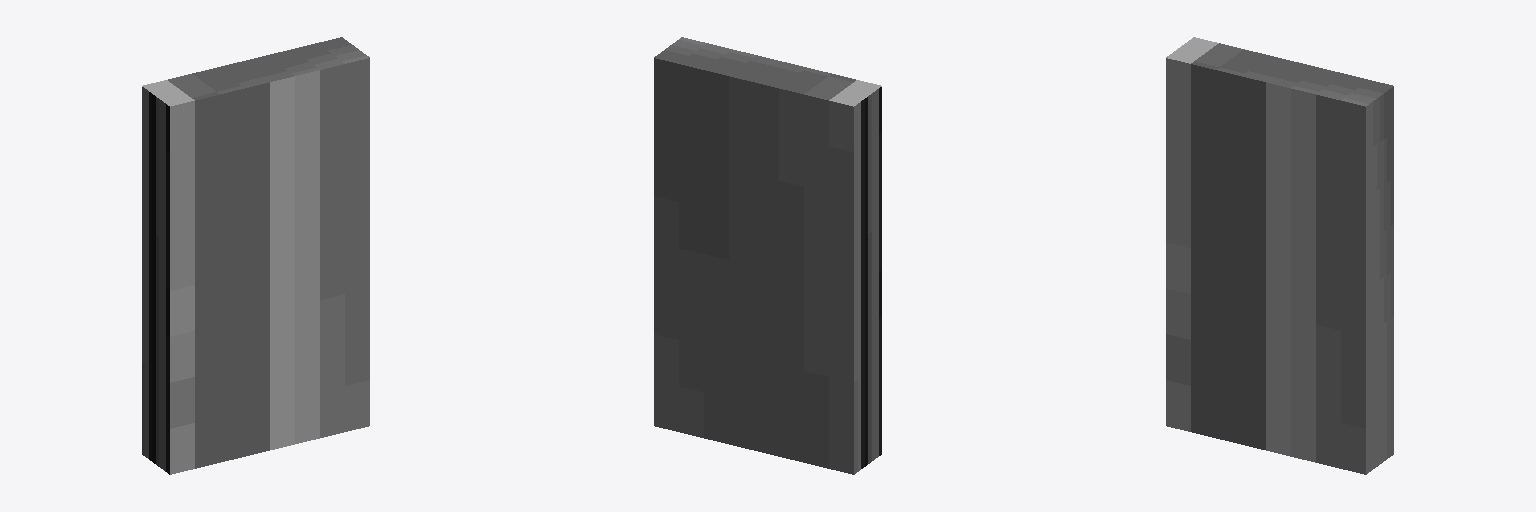
3 views of the same model, side by side, from view 1: azimuth 30°, elevation 25°; view 2: azimuth 150°, elevation 25°; view 3: azimuth 330°, elevation 25° (orthographic).
Parts seen in each view (by area): view 1: Level1_plat5; view 2: Level1_plat5; view 3: Level1_plat5.
Part boxes in pixels (bbox=[...]): Level1_plat5: bbox=[142, 37, 369, 474]; Level1_plat5: bbox=[654, 37, 881, 474]; Level1_plat5: bbox=[1166, 37, 1393, 474].
Bounding box in the file's own units: 2.91 × 5.11 × 0.7146.
Materials: 1 (1 with a texture image).